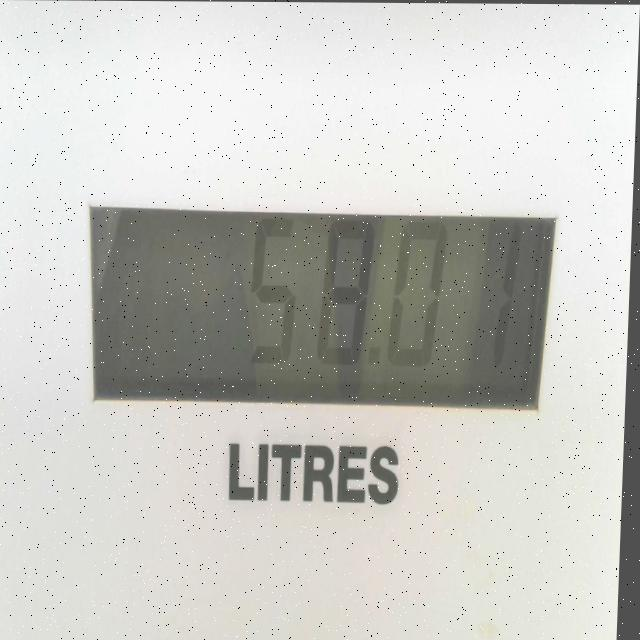.: (364, 339, 385, 371)
0: (387, 215, 452, 383)
1: (480, 219, 531, 376)
5: (240, 214, 307, 374)
8: (316, 213, 375, 375)
